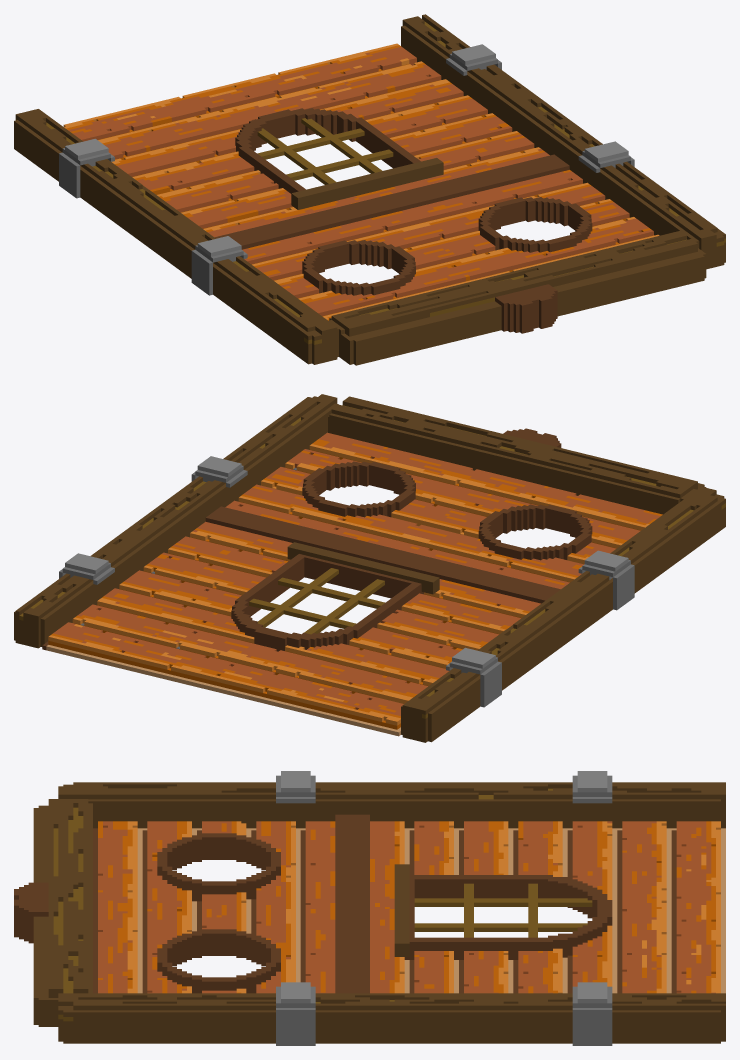
Rendered from ship.obj.
The picture shows the model from 3 angles, top to bottom: view 1: azimuth 30°, elevation 25°; view 2: azimuth 150°, elevation 25°; view 3: azimuth 270°, elevation 25°; orthographic projection. The views are drawn at different scales.
Parts seen in each view (by area): view 1: 123; view 2: 123; view 3: 123.
Boxes of the visible parts, x1,y1,x2,y2 form: 123: (14, 14, 725, 365); 123: (14, 394, 725, 742); 123: (14, 771, 725, 1045).
Bounding box in the file's own units: 11.1 × 1 × 14.4.
Materials: 1 (1 with a texture image).
